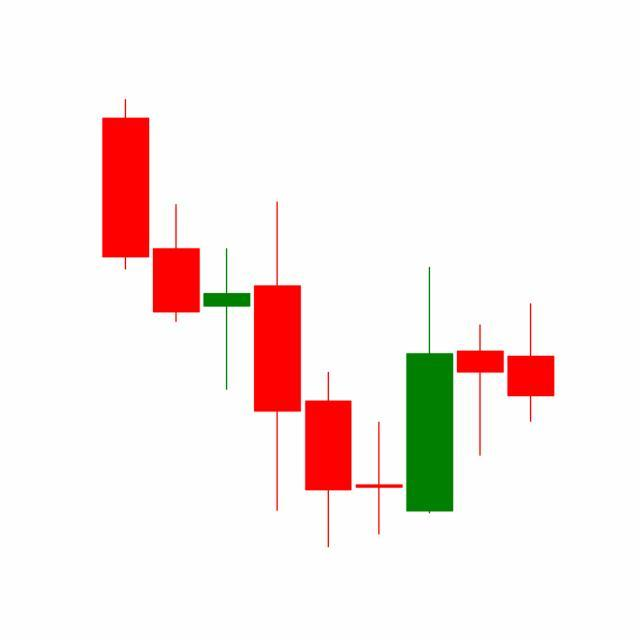Hikkake Pattern: (302, 263, 555, 549)
